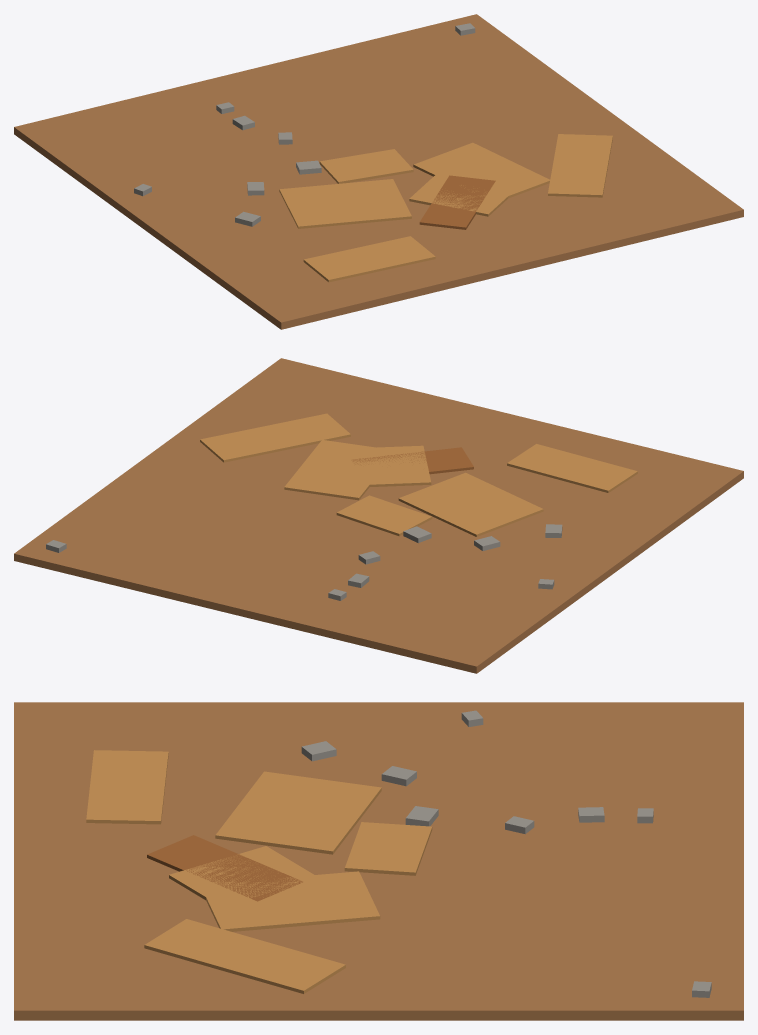
File: L_MedTileDirt.fbx
The picture shows the model from 3 angles, top to bottom: view 1: azimuth 30°, elevation 25°; view 2: azimuth 150°, elevation 25°; view 3: azimuth 270°, elevation 25°; orthographic projection. The views are drawn at different scales.
Parts seen in each view (by area): view 1: M_TileDirt; view 2: M_TileDirt; view 3: M_TileDirt.
Part boxes in pixels (x1=…): M_TileDirt: x1=14, y1=14, x2=743, y2=329; M_TileDirt: x1=14, y1=358, x2=743, y2=673; M_TileDirt: x1=14, y1=702, x2=743, y2=1020.
Bounding box in the file's own units: 4 × 0.1 × 4.
Materials: 1 (1 with a texture image).
